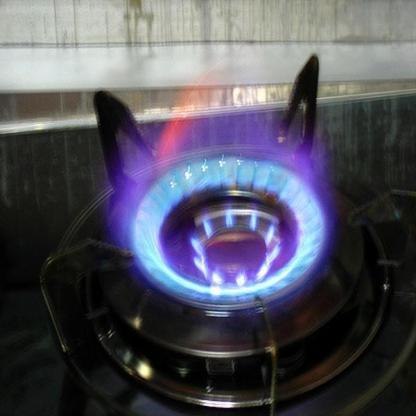fire: (96, 80, 350, 314)
